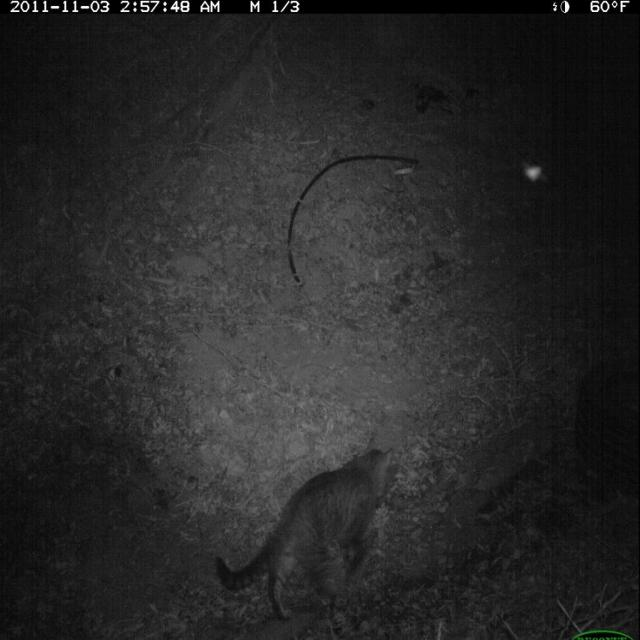cat: (209, 430, 400, 633)
